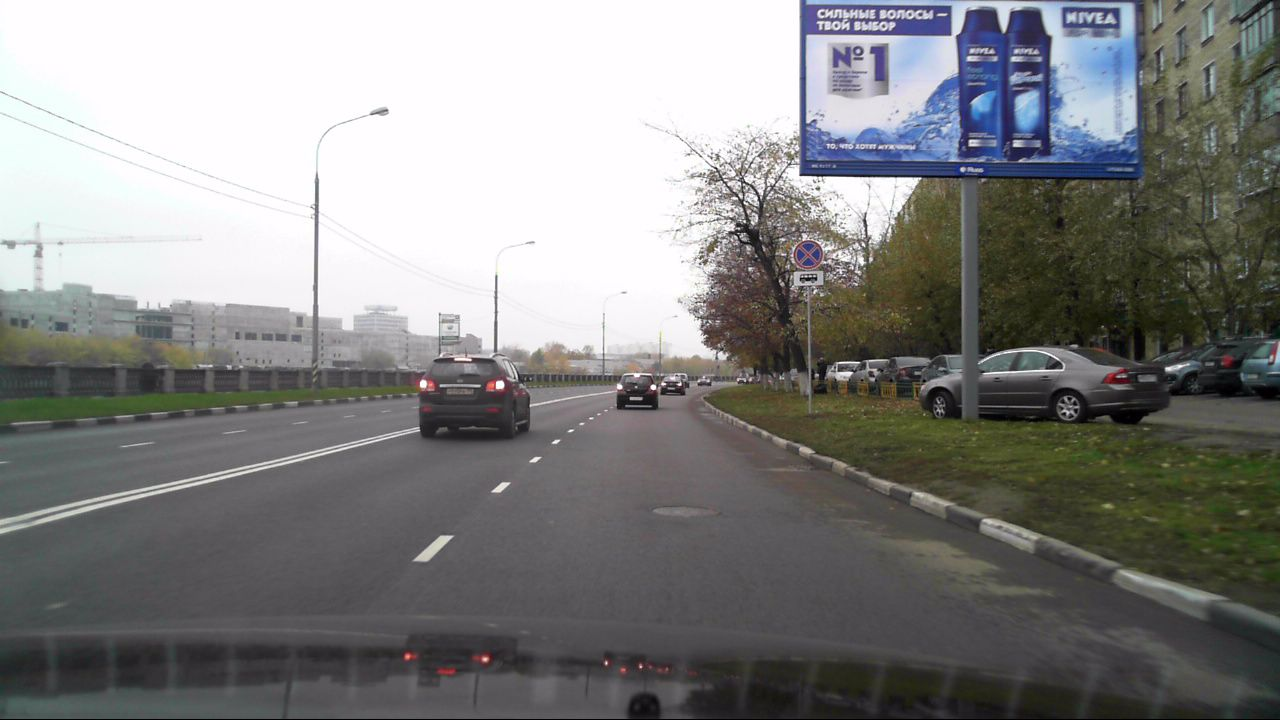No Parking: (793, 239, 824, 269)
